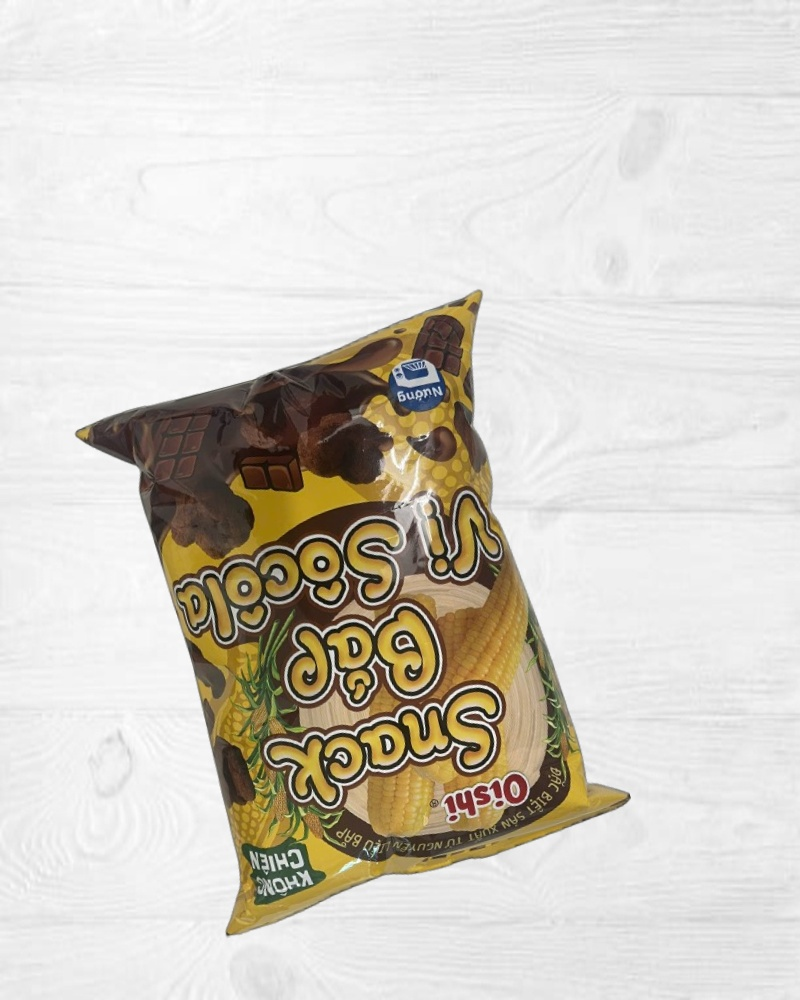Snack socola: (69, 289, 638, 940)
